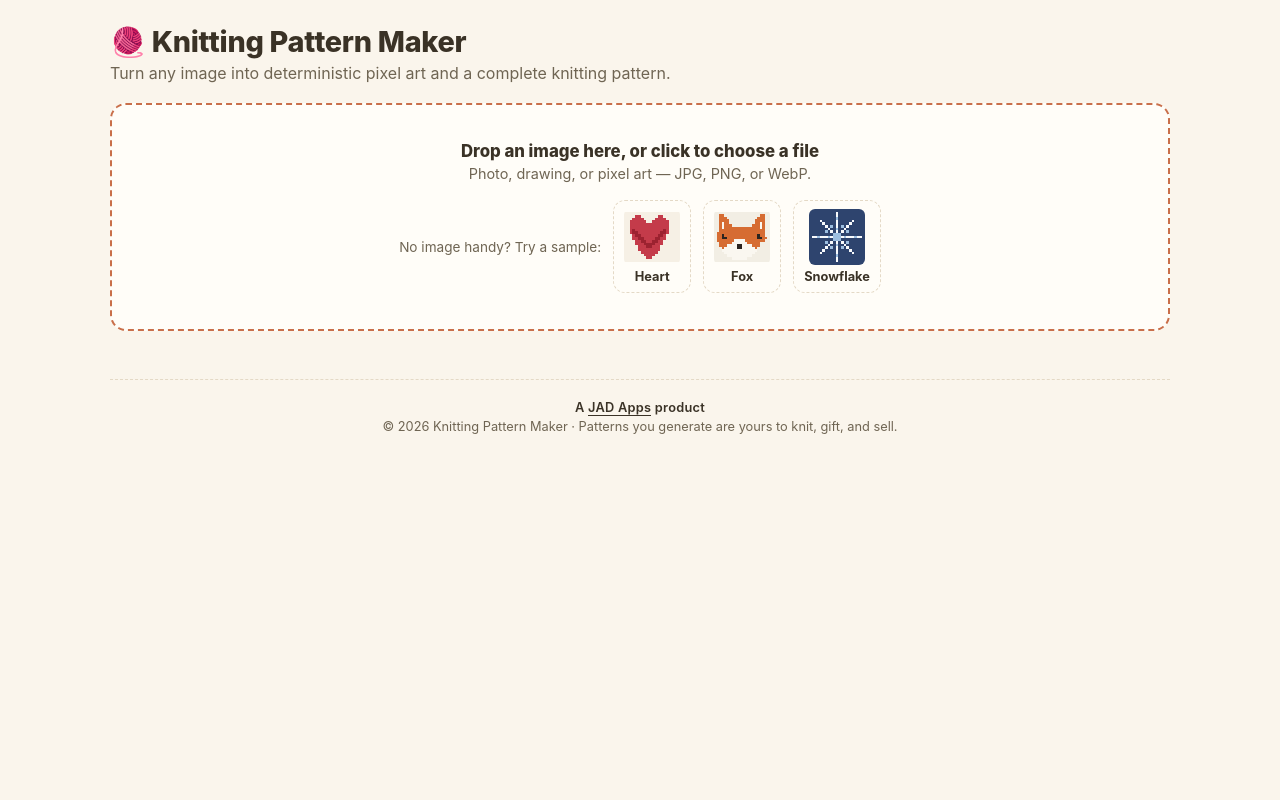
Scenario: color edit + despeckle flow › toggling a color off instantly re-derives instructions client-side
Note: Load a sample to drive the pipeline.
Click the button named "heart sample motif" at (652, 246), box [613,200,691,293]
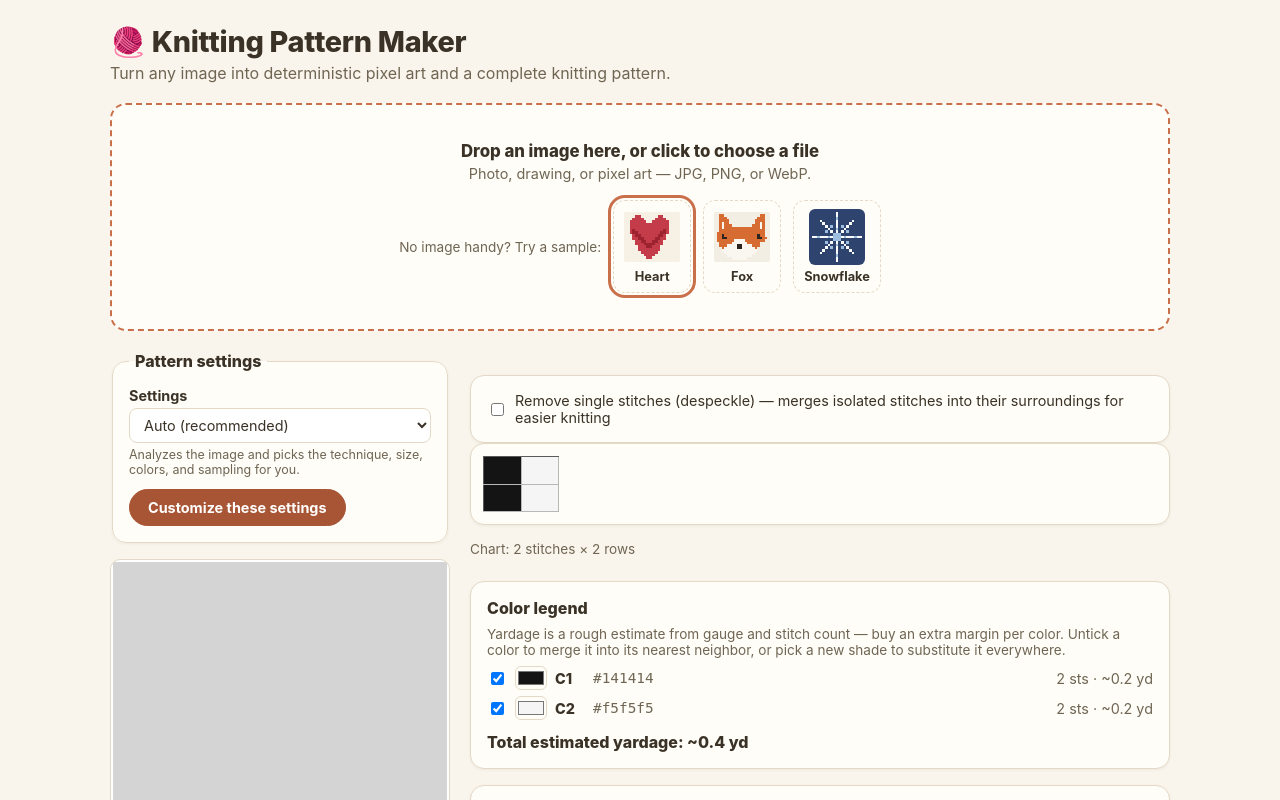
Click the checkbox named "use color c1" at (498, 678), box [491,672,504,684]
(page scrolled)
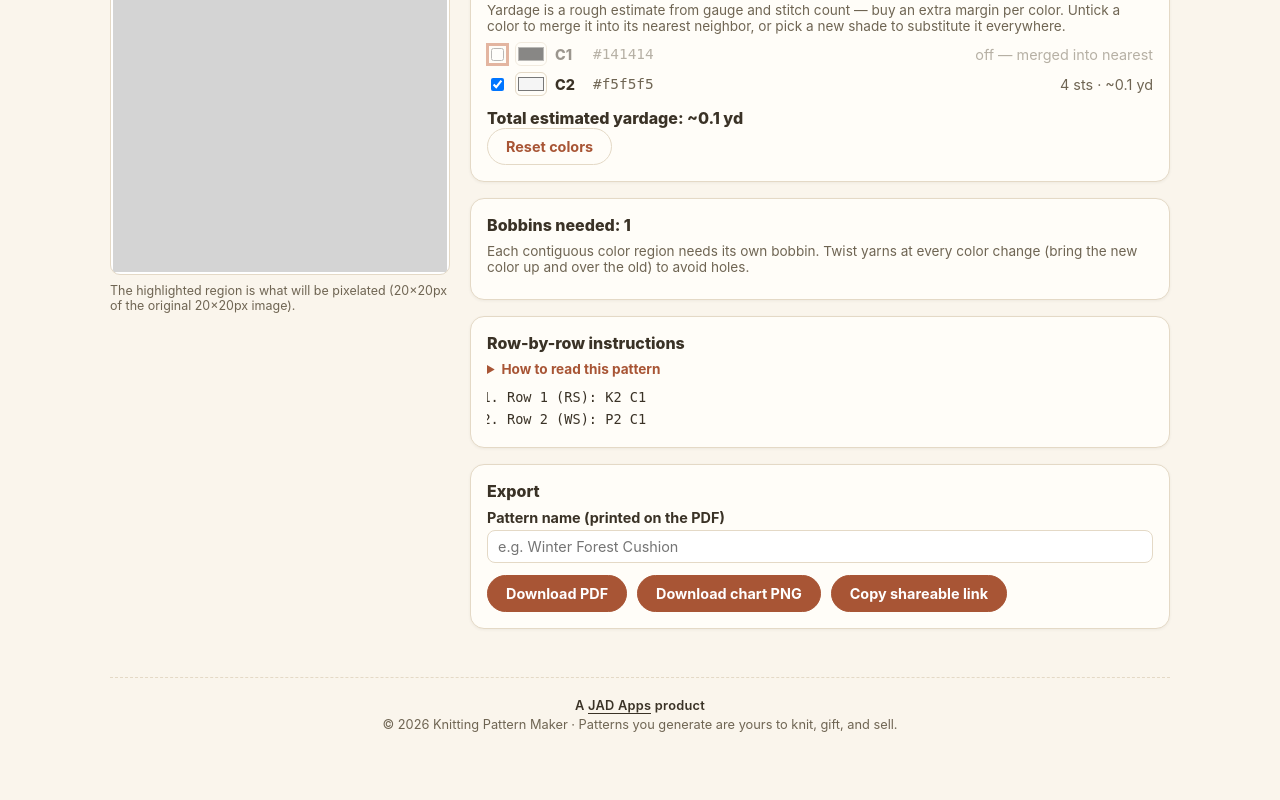
Now the list item "Row 1 (RS): K2 C1" is shown, box [507,389,646,405]
Now the list item "Row 2 (WS): P2 C1" is shown, box [507,411,646,427]
